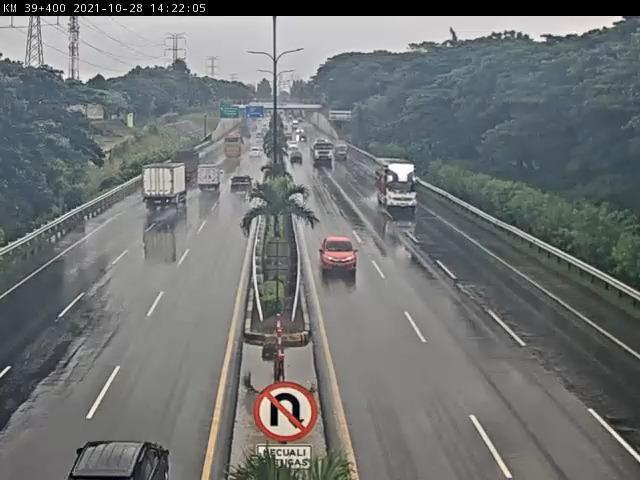car: (317, 234, 361, 274), (228, 173, 255, 197)
truck: (377, 163, 422, 216), (144, 162, 191, 208), (173, 150, 203, 181), (199, 166, 224, 193)
